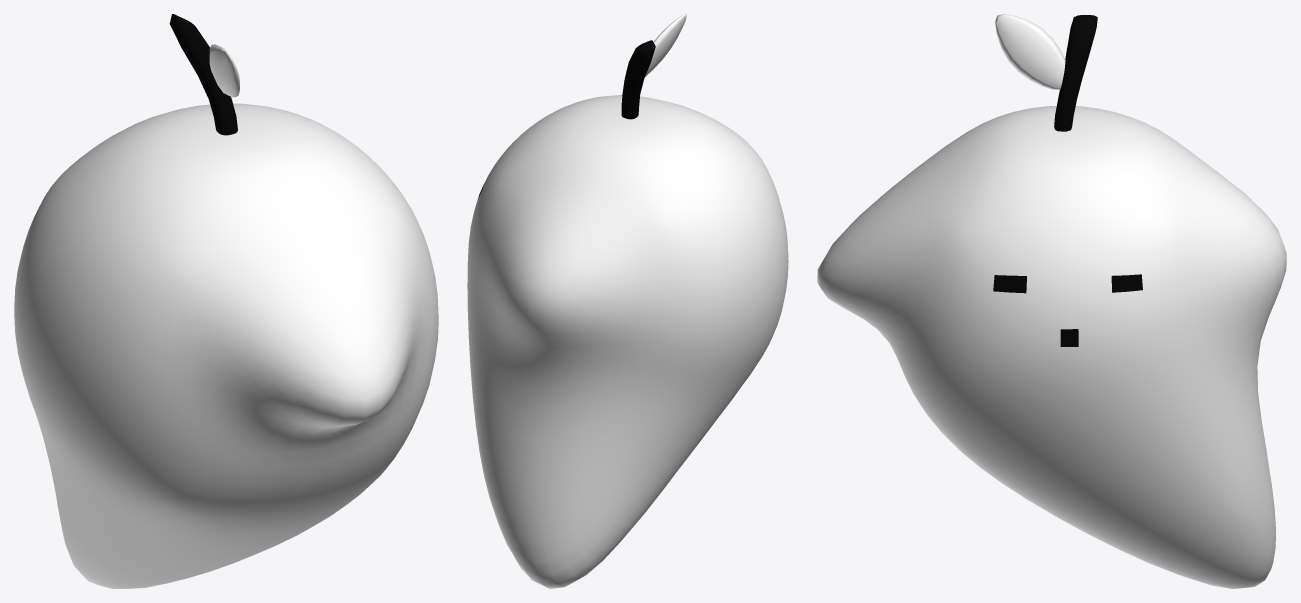
Rendered from apple_ghost.fbx.
3 renders of one model, left to right at view 1: azimuth 30°, elevation 25°; view 2: azimuth 150°, elevation 25°; view 3: azimuth 270°, elevation 25°, orthographic. The views are drawn at different scales.
Visible parts, largest first — view 1: apple_standart, apple_standart.001; view 2: apple_standart, apple_standart.001; view 3: apple_standart, apple_standart.001.
Part boxes in pixels (<box>): apple_standart: <box>14,103,438,588</box>; apple_standart.001: <box>169,14,239,135</box>; apple_standart: <box>467,95,788,588</box>; apple_standart.001: <box>621,14,686,119</box>; apple_standart: <box>817,106,1286,588</box>; apple_standart.001: <box>995,14,1097,131</box>.
Size of the model in its own units: 55.78 by 95.58 by 72.97.
